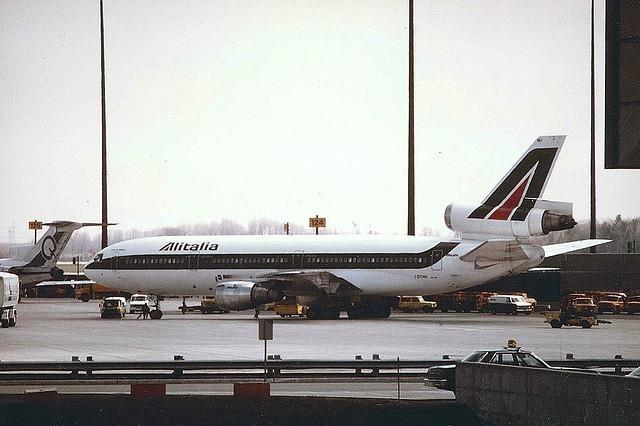car: (427, 349, 600, 394), (398, 296, 438, 313), (100, 297, 126, 319), (572, 298, 598, 314), (130, 294, 148, 314)
truck: (545, 303, 597, 328), (75, 283, 132, 303), (597, 292, 640, 316), (487, 296, 531, 316)
